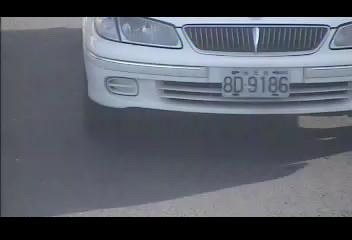plate: (220, 68, 292, 98)
